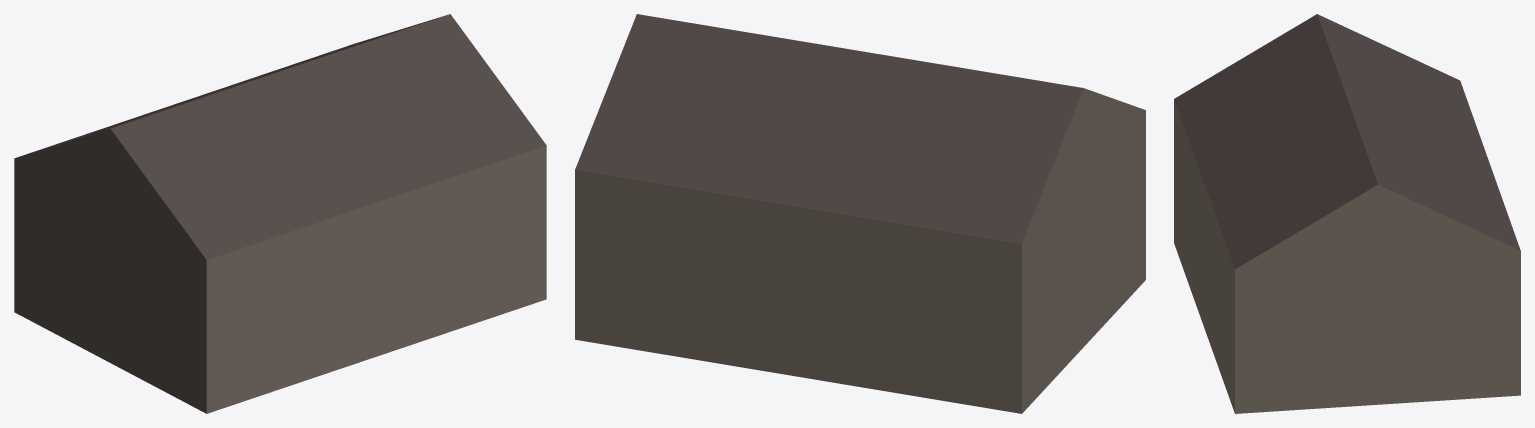
3 renders of one model, left to right at view 1: azimuth 30°, elevation 25°; view 2: azimuth 150°, elevation 25°; view 3: azimuth 270°, elevation 25°, orthographic. The views are drawn at different scales.
Parts seen in each view (by area): view 1: HP-w859078881; view 2: HP-w859078881; view 3: HP-w859078881.
Boxes of the visible parts, left/top/right/bottom form: HP-w859078881: left=14, top=14, right=546, bottom=413; HP-w859078881: left=575, top=14, right=1145, bottom=413; HP-w859078881: left=1174, top=14, right=1520, bottom=413.
Size of the model in its own units: 16.85 by 9.15 by 13.06.
